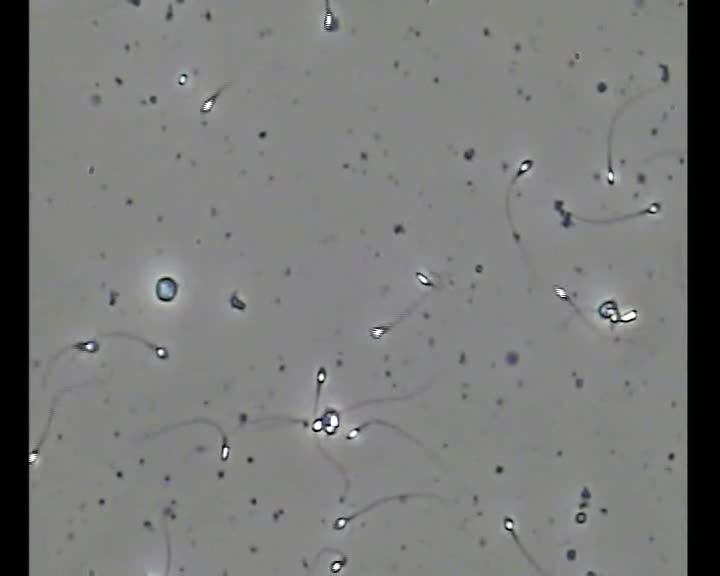spermhead: (155, 276, 178, 302), (597, 299, 618, 321), (323, 408, 340, 435), (74, 339, 98, 353), (416, 270, 435, 287), (323, 10, 338, 31), (370, 325, 389, 340), (516, 159, 532, 176), (619, 308, 637, 323), (330, 557, 346, 573), (219, 439, 230, 461), (201, 96, 215, 113), (315, 366, 327, 384), (503, 516, 515, 533), (646, 201, 661, 214), (333, 516, 348, 529), (553, 287, 569, 299), (311, 417, 323, 432), (154, 346, 168, 358), (346, 427, 359, 439), (606, 168, 615, 185), (177, 72, 188, 85), (29, 449, 38, 464)
